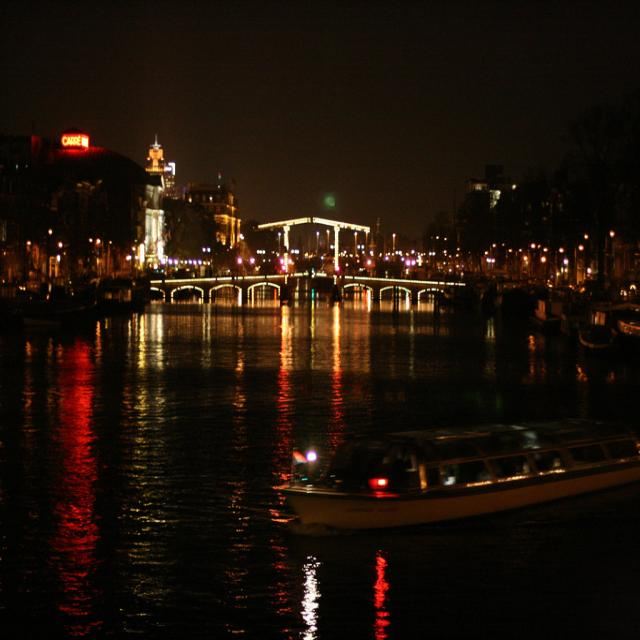Boat: (254, 409, 640, 563), (28, 272, 102, 337), (580, 303, 626, 372)
